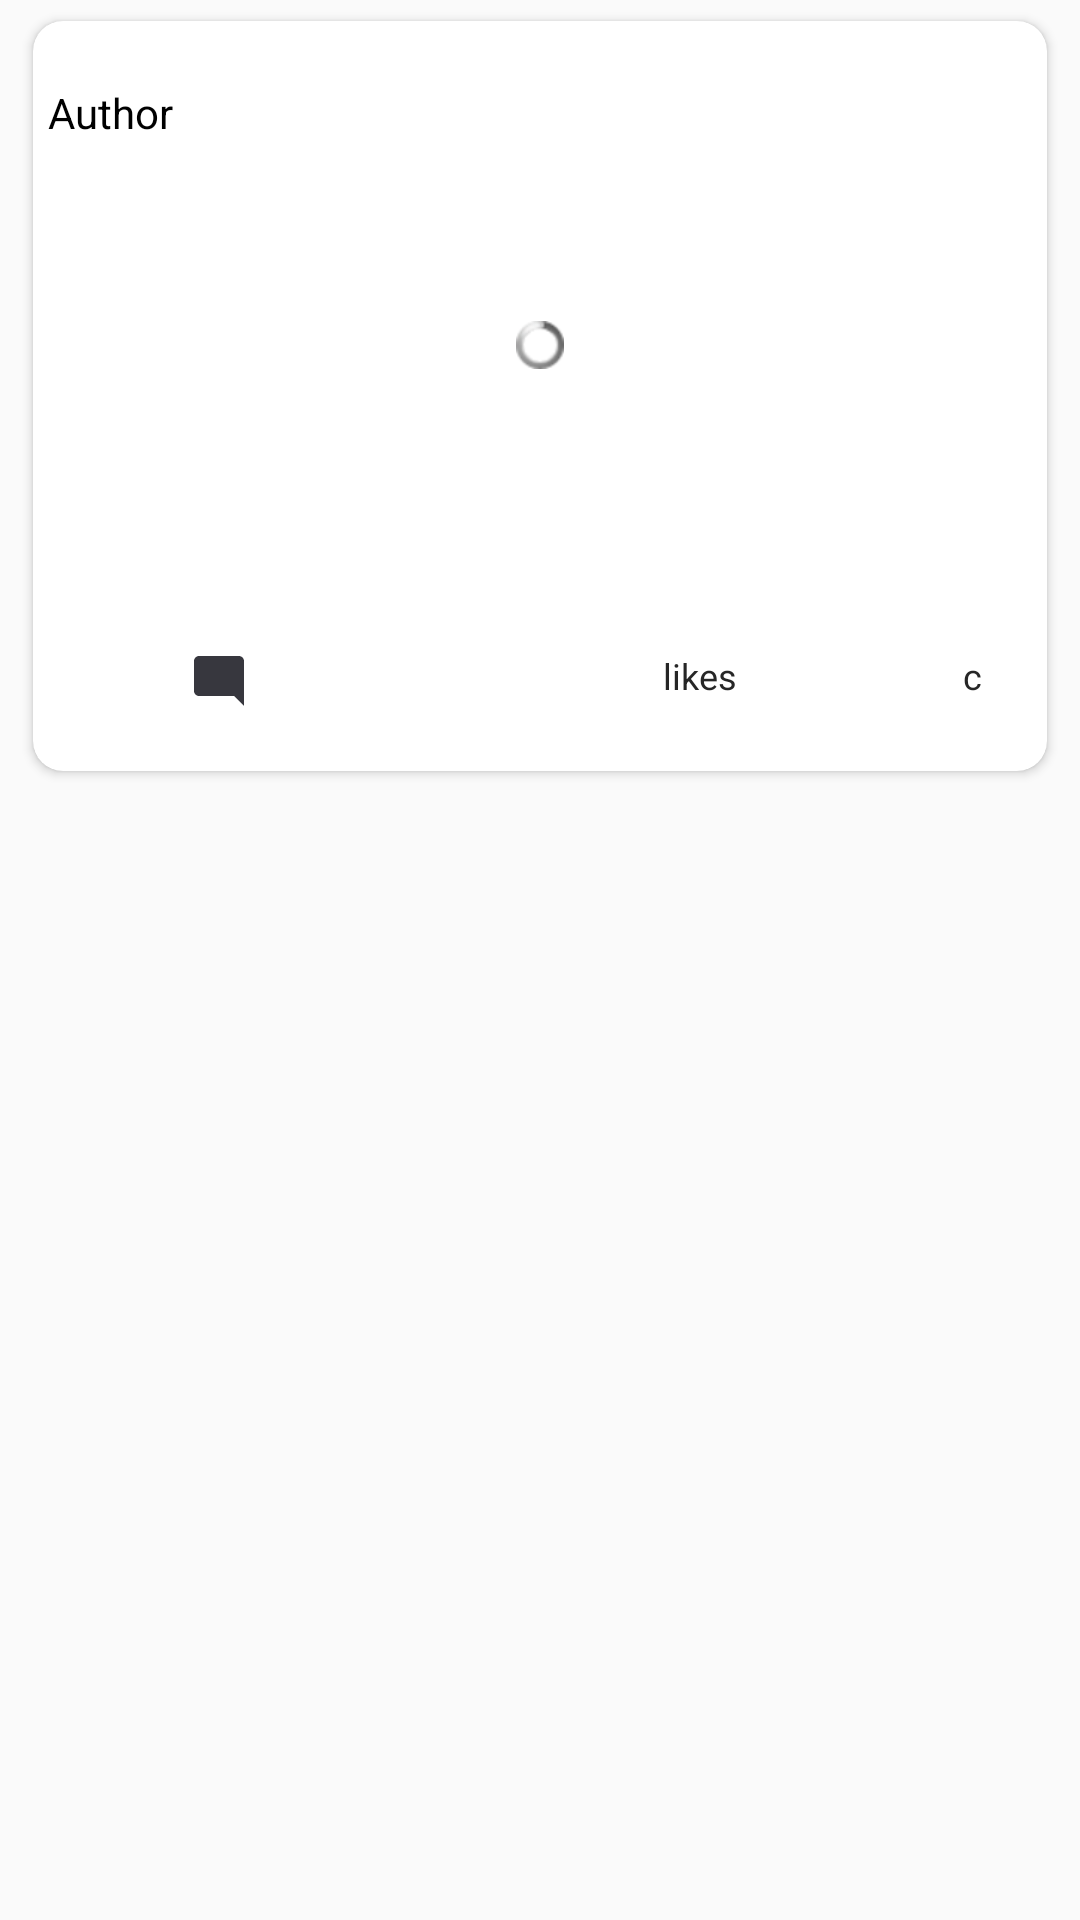

Where icons sit on this 1080 × 1920 app screen, as BBox(x1, y1, x2, y2):
comments: BBox(194, 656, 244, 706)
